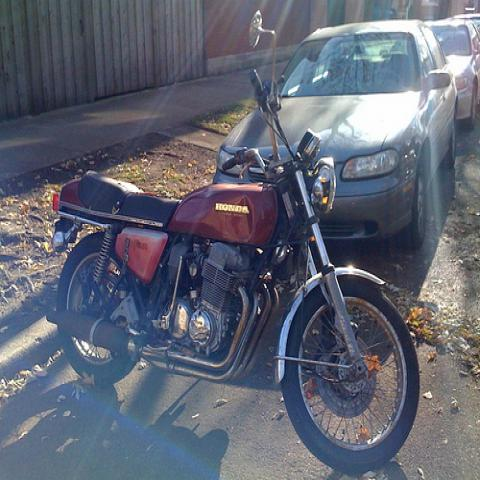car: (280, 17, 458, 254), (423, 18, 479, 132), (445, 13, 479, 37)
motorcycle: (47, 11, 423, 472)
